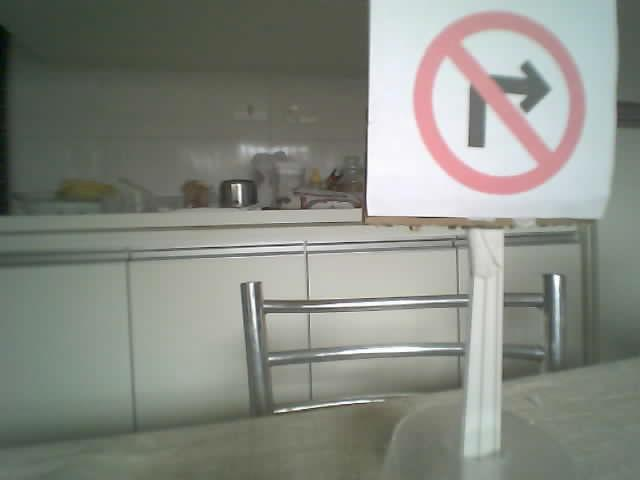R-4b_proibido-direita: (411, 9, 585, 195)
